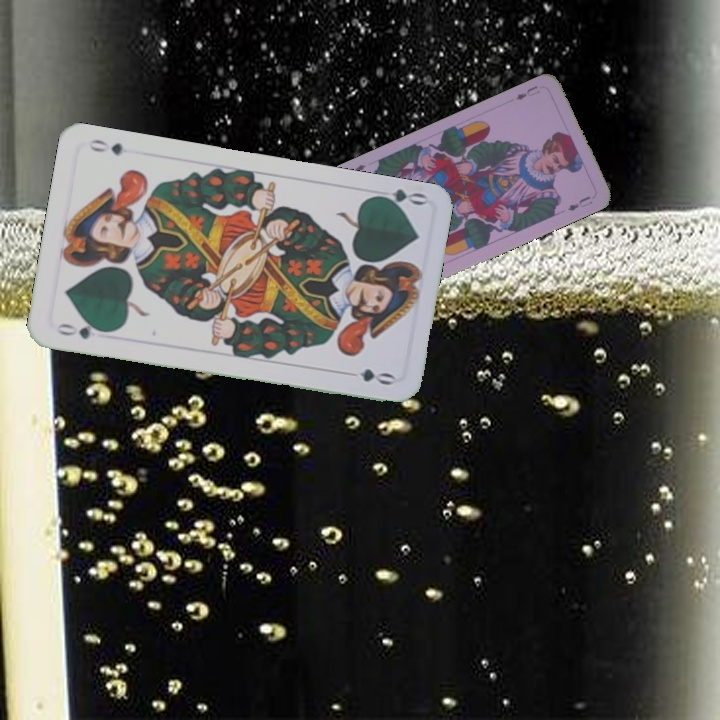EU: (511, 81, 542, 103)
GO: (368, 184, 428, 213), (52, 319, 111, 342)
